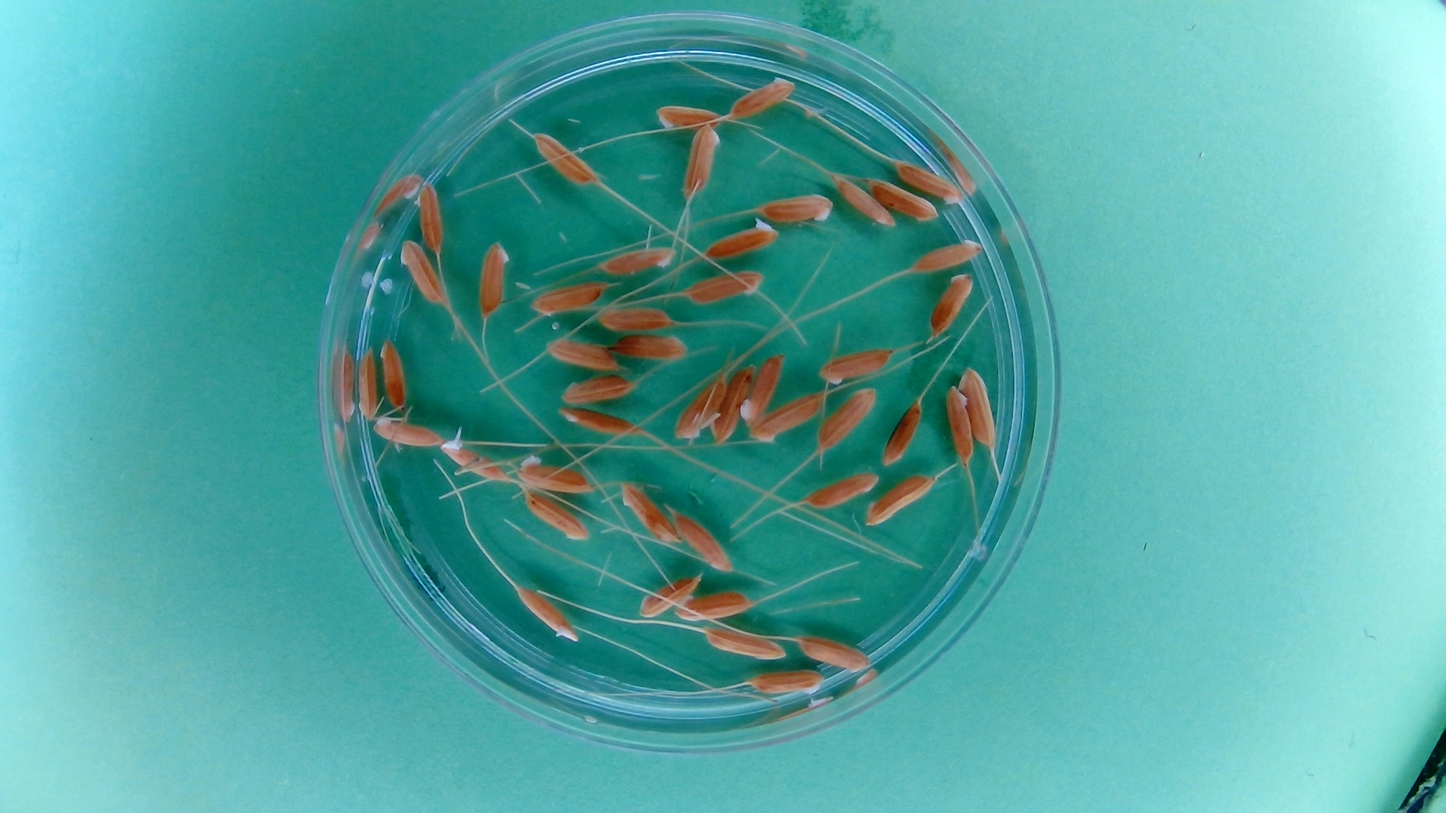no: (815, 385, 878, 454), (748, 390, 825, 446), (618, 479, 681, 547), (670, 508, 734, 574), (864, 472, 938, 528), (529, 129, 599, 188), (674, 373, 728, 445), (830, 170, 897, 228), (514, 584, 578, 644), (709, 361, 754, 446), (864, 175, 941, 223), (395, 236, 447, 307), (520, 490, 590, 542), (958, 364, 999, 450), (892, 157, 965, 205), (727, 72, 798, 121), (740, 352, 787, 426), (928, 271, 977, 341), (516, 452, 593, 495), (703, 218, 780, 260), (803, 470, 880, 512), (818, 346, 895, 388), (680, 122, 722, 199), (879, 396, 924, 467), (795, 632, 872, 673), (683, 268, 766, 306), (703, 626, 788, 662), (639, 573, 702, 620), (475, 239, 512, 319), (908, 236, 985, 274), (676, 587, 757, 623), (528, 281, 606, 318), (755, 190, 834, 226), (596, 242, 677, 277), (545, 335, 621, 372), (554, 373, 638, 406), (593, 302, 675, 335), (557, 404, 637, 437), (610, 332, 691, 364), (944, 382, 975, 464), (415, 178, 447, 257), (746, 667, 826, 698), (377, 336, 409, 413), (651, 100, 721, 132), (353, 343, 380, 422), (377, 419, 441, 448)
yes: (443, 438, 509, 478)
